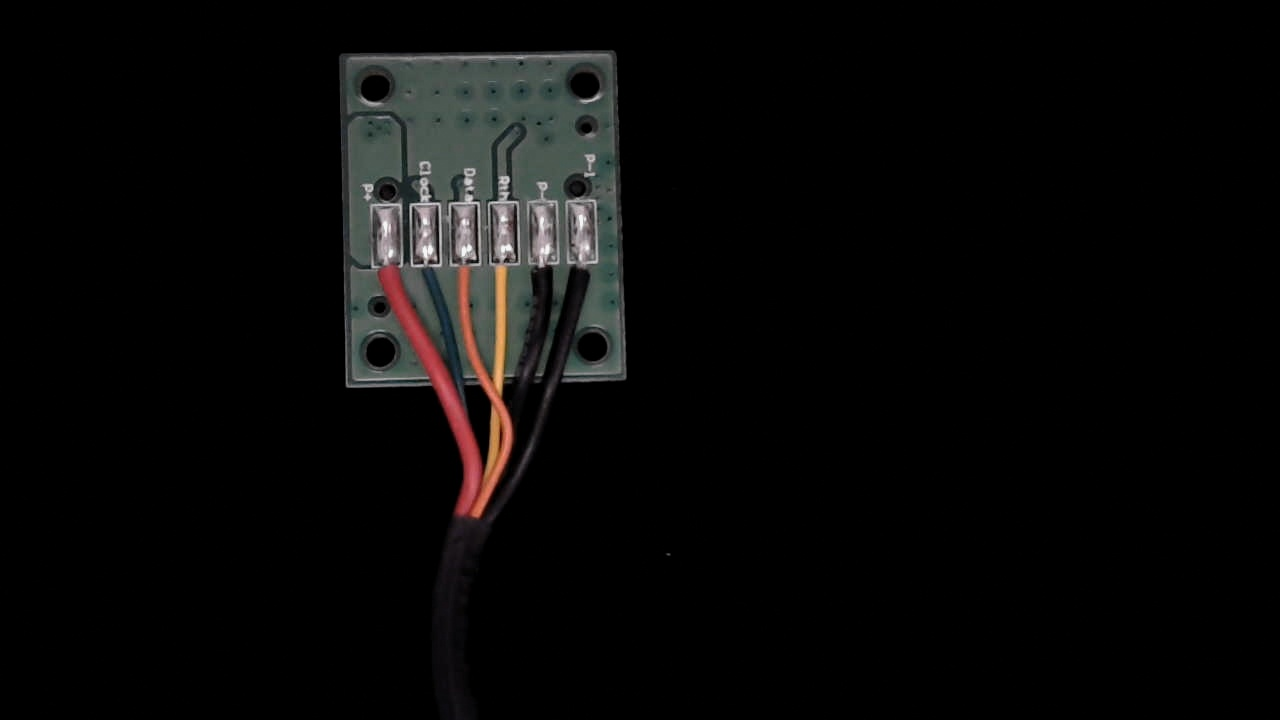Black: (528, 244, 560, 312)
Black1: (568, 247, 600, 314)
Green: (413, 248, 443, 309)
Orange: (451, 245, 480, 308)
Red: (374, 249, 404, 315)
Yellow: (490, 243, 520, 311)
